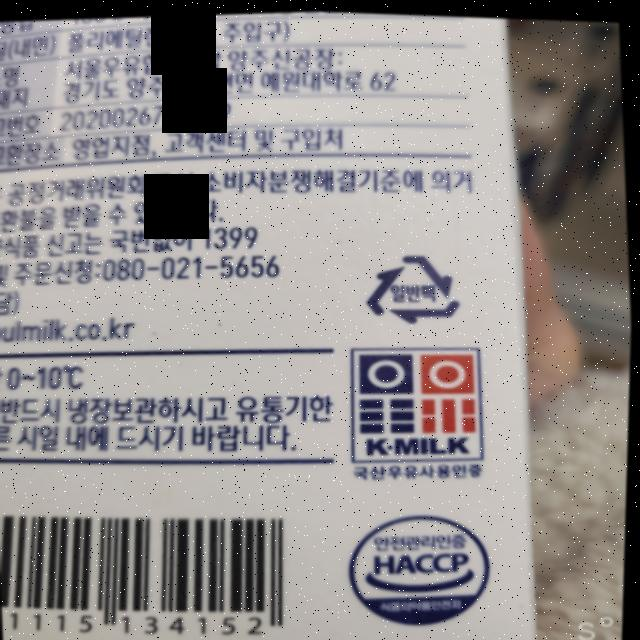NormalPack: (364, 242, 464, 325)
